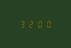three: (18, 20, 25, 28)
two: (26, 20, 33, 28)
zero: (34, 20, 41, 28), (42, 20, 49, 28)
